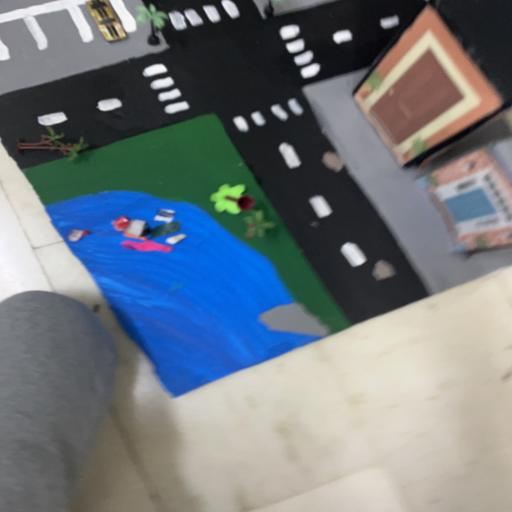encroachment: (258, 301, 332, 339)
fallen trees: (8, 132, 97, 159), (208, 182, 258, 216)
porthole: (370, 260, 399, 280), (321, 152, 348, 172)
trash: (66, 208, 195, 252)
